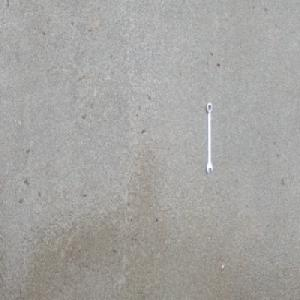Wrench: (206, 101, 213, 175)
